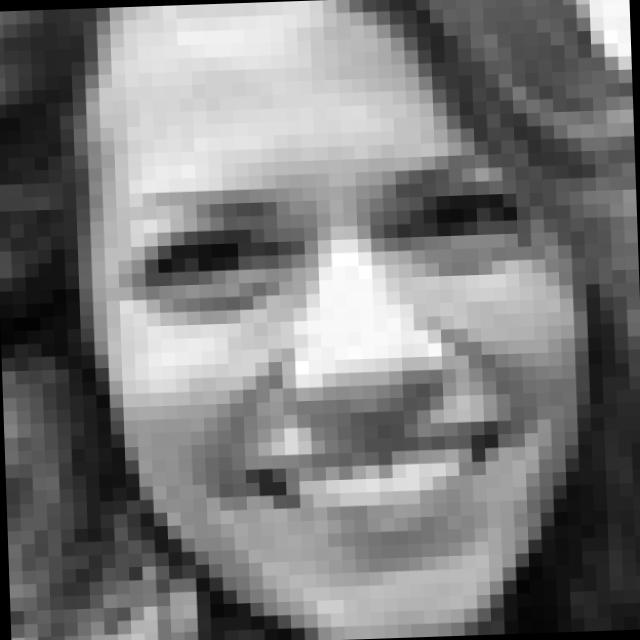happy: (119, 140, 548, 570)
